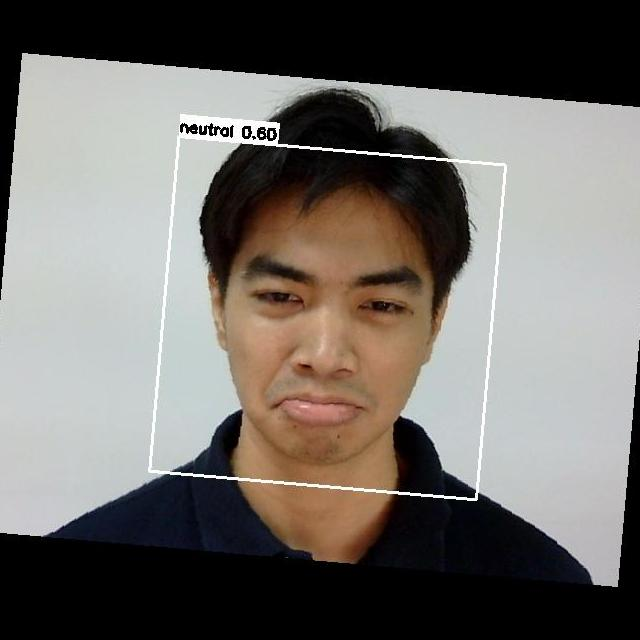Sad: (208, 225, 438, 445)
